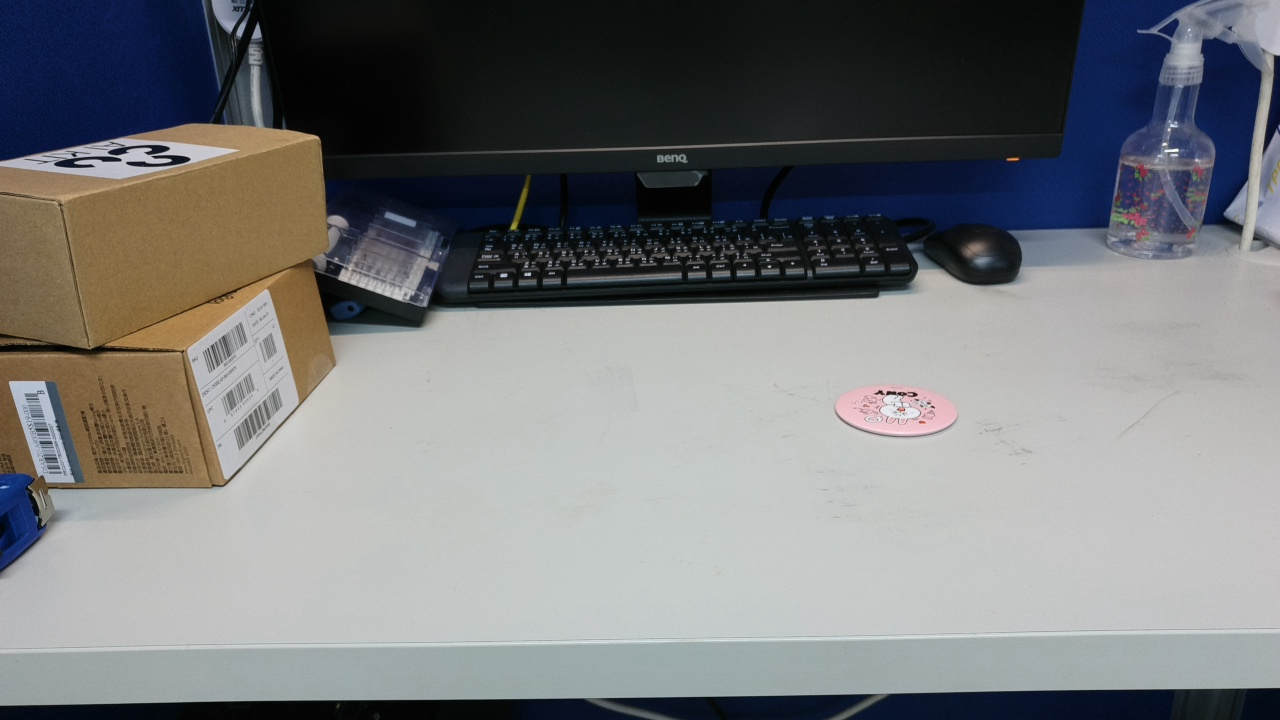columnar: (961, 207, 1239, 625)
